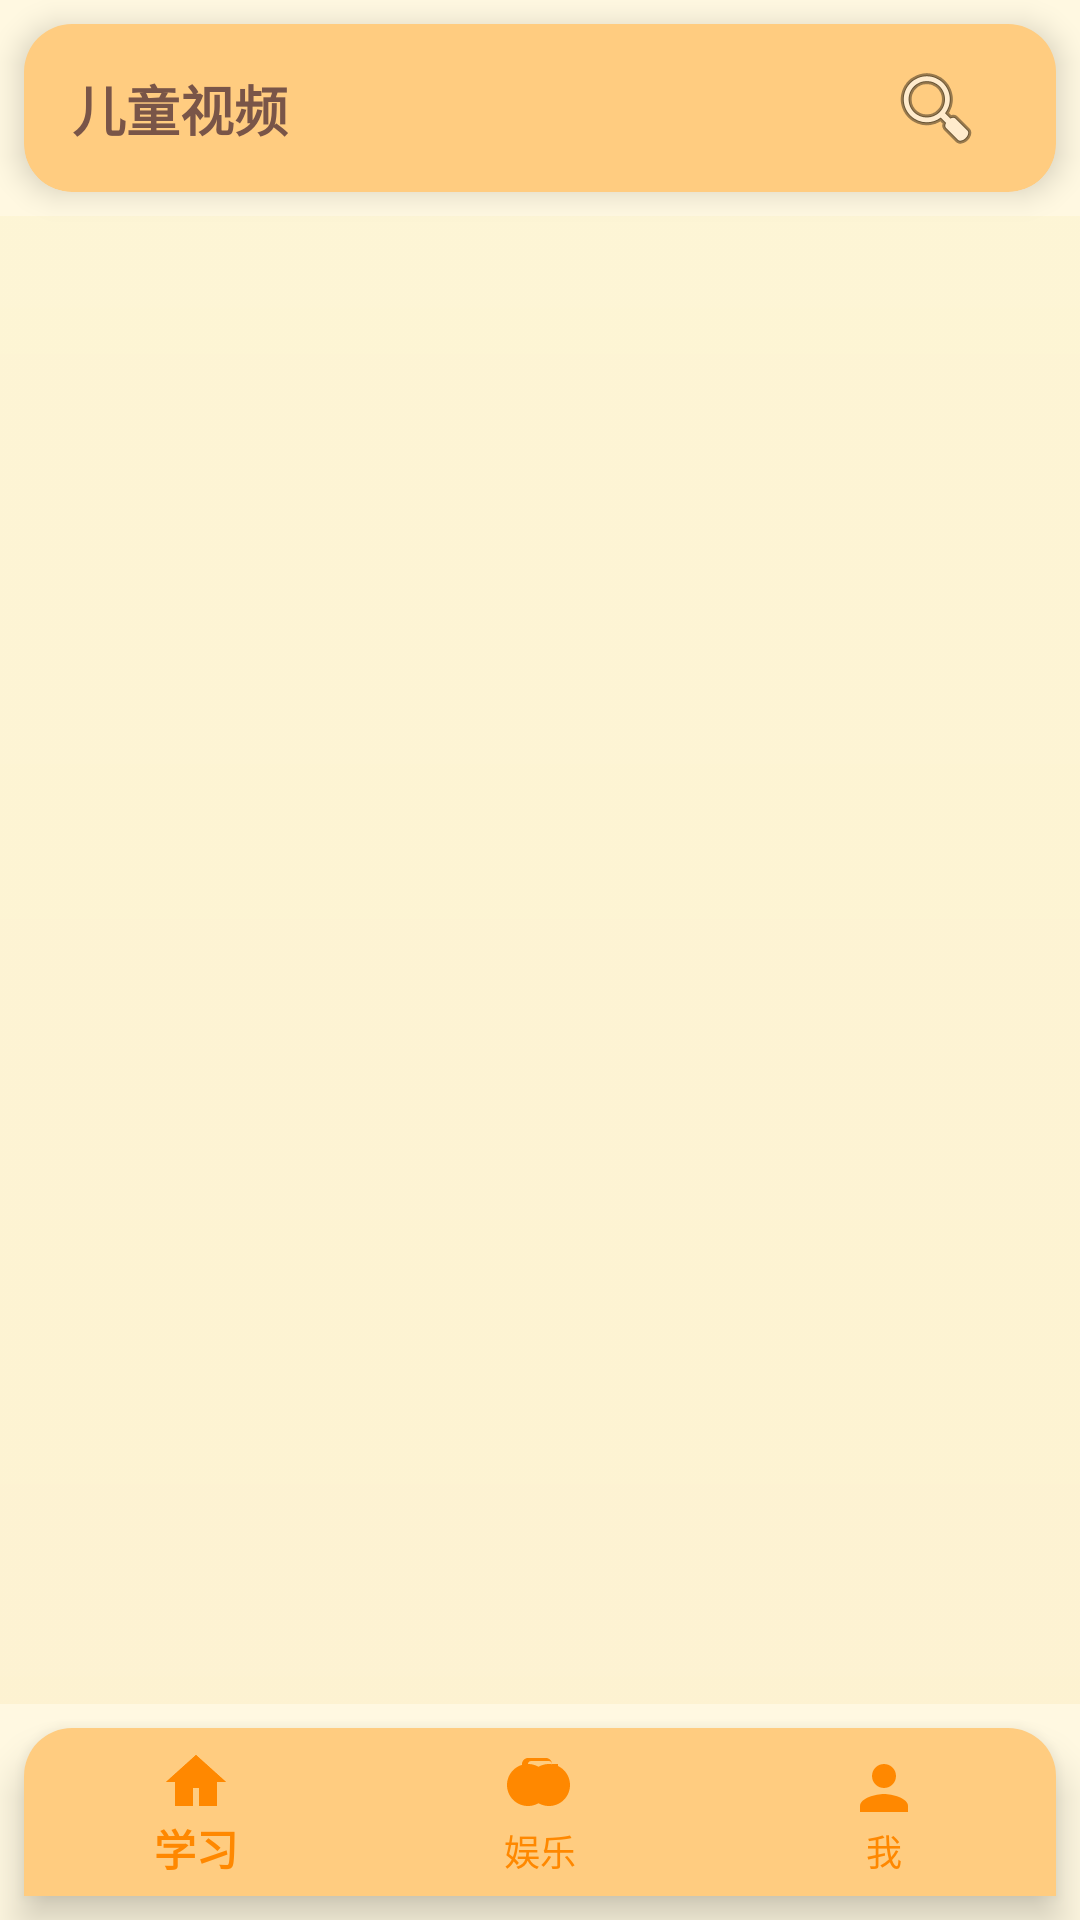

Point at icon controls on the screen. Image size 1080 x 1920, points as [x,y].
搜索: [936,108]
